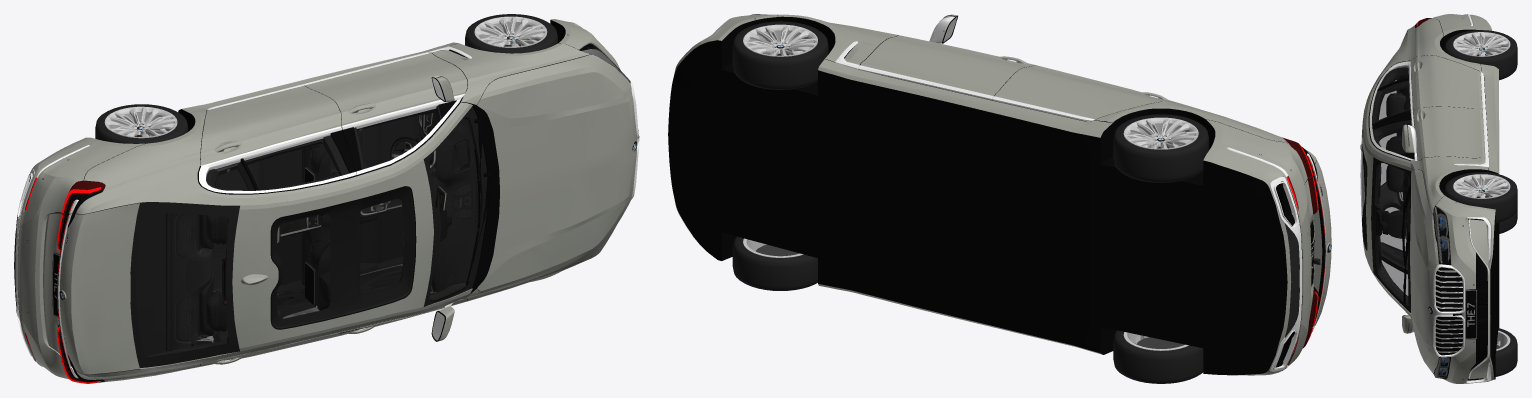
3 renders of one model, left to right at view 1: azimuth 30°, elevation 25°; view 2: azimuth 150°, elevation 25°; view 3: azimuth 270°, elevation 25°, orthographic. The views are drawn at different scales.
Parts seen in each view (by area): view 1: body_mesh, wheel_RL_mesh, wheel_FL_mesh; view 2: body_mesh, wheel_RL_mesh, wheel_FL_mesh, wheel_RR_mesh, wheel_FR_mesh; view 3: body_mesh, wheel_FL_mesh, wheel_RL_mesh, wheel_FR_mesh, wheel_RR_mesh.
Boxes of the visible parts, bbox=[...] form: body_mesh: bbox=[14, 19, 639, 383]; wheel_RL_mesh: bbox=[95, 104, 188, 143]; wheel_FL_mesh: bbox=[465, 14, 557, 53]; body_mesh: bbox=[668, 14, 1331, 375]; wheel_RL_mesh: bbox=[1113, 114, 1208, 182]; wheel_FL_mesh: bbox=[732, 21, 828, 89]; wheel_RR_mesh: bbox=[1113, 330, 1203, 383]; wheel_FR_mesh: bbox=[732, 236, 817, 290]; body_mesh: bbox=[1360, 14, 1499, 383]; wheel_FL_mesh: bbox=[1444, 172, 1517, 222]; wheel_RL_mesh: bbox=[1444, 30, 1517, 80]; wheel_FR_mesh: bbox=[1495, 328, 1517, 376]; wheel_RR_mesh: bbox=[1499, 207, 1517, 233].
Size of the model in its own units: 5.26 by 2.18 by 1.51.
35 materials, 9 textured.
